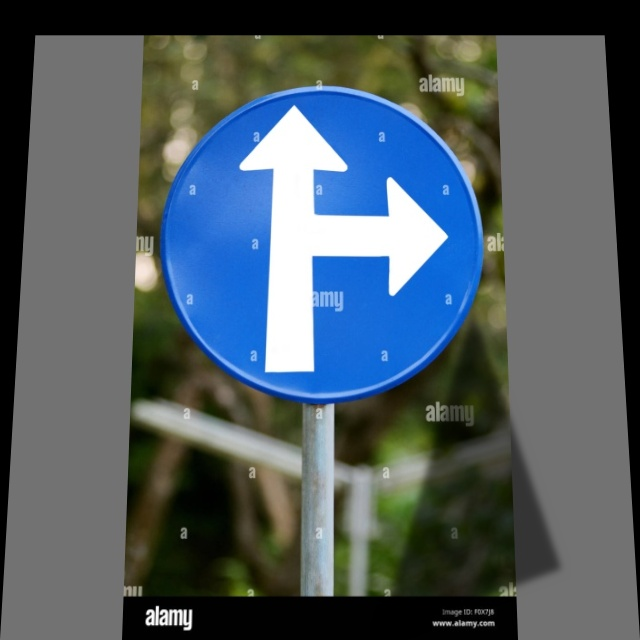Compulsory_Ahead_or_Turn_Right: (158, 83, 478, 399)
